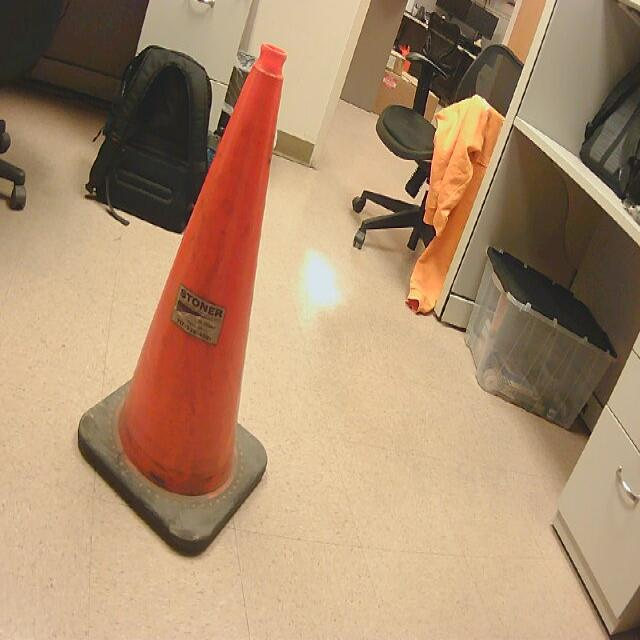traffic cone: (79, 45, 289, 558)
